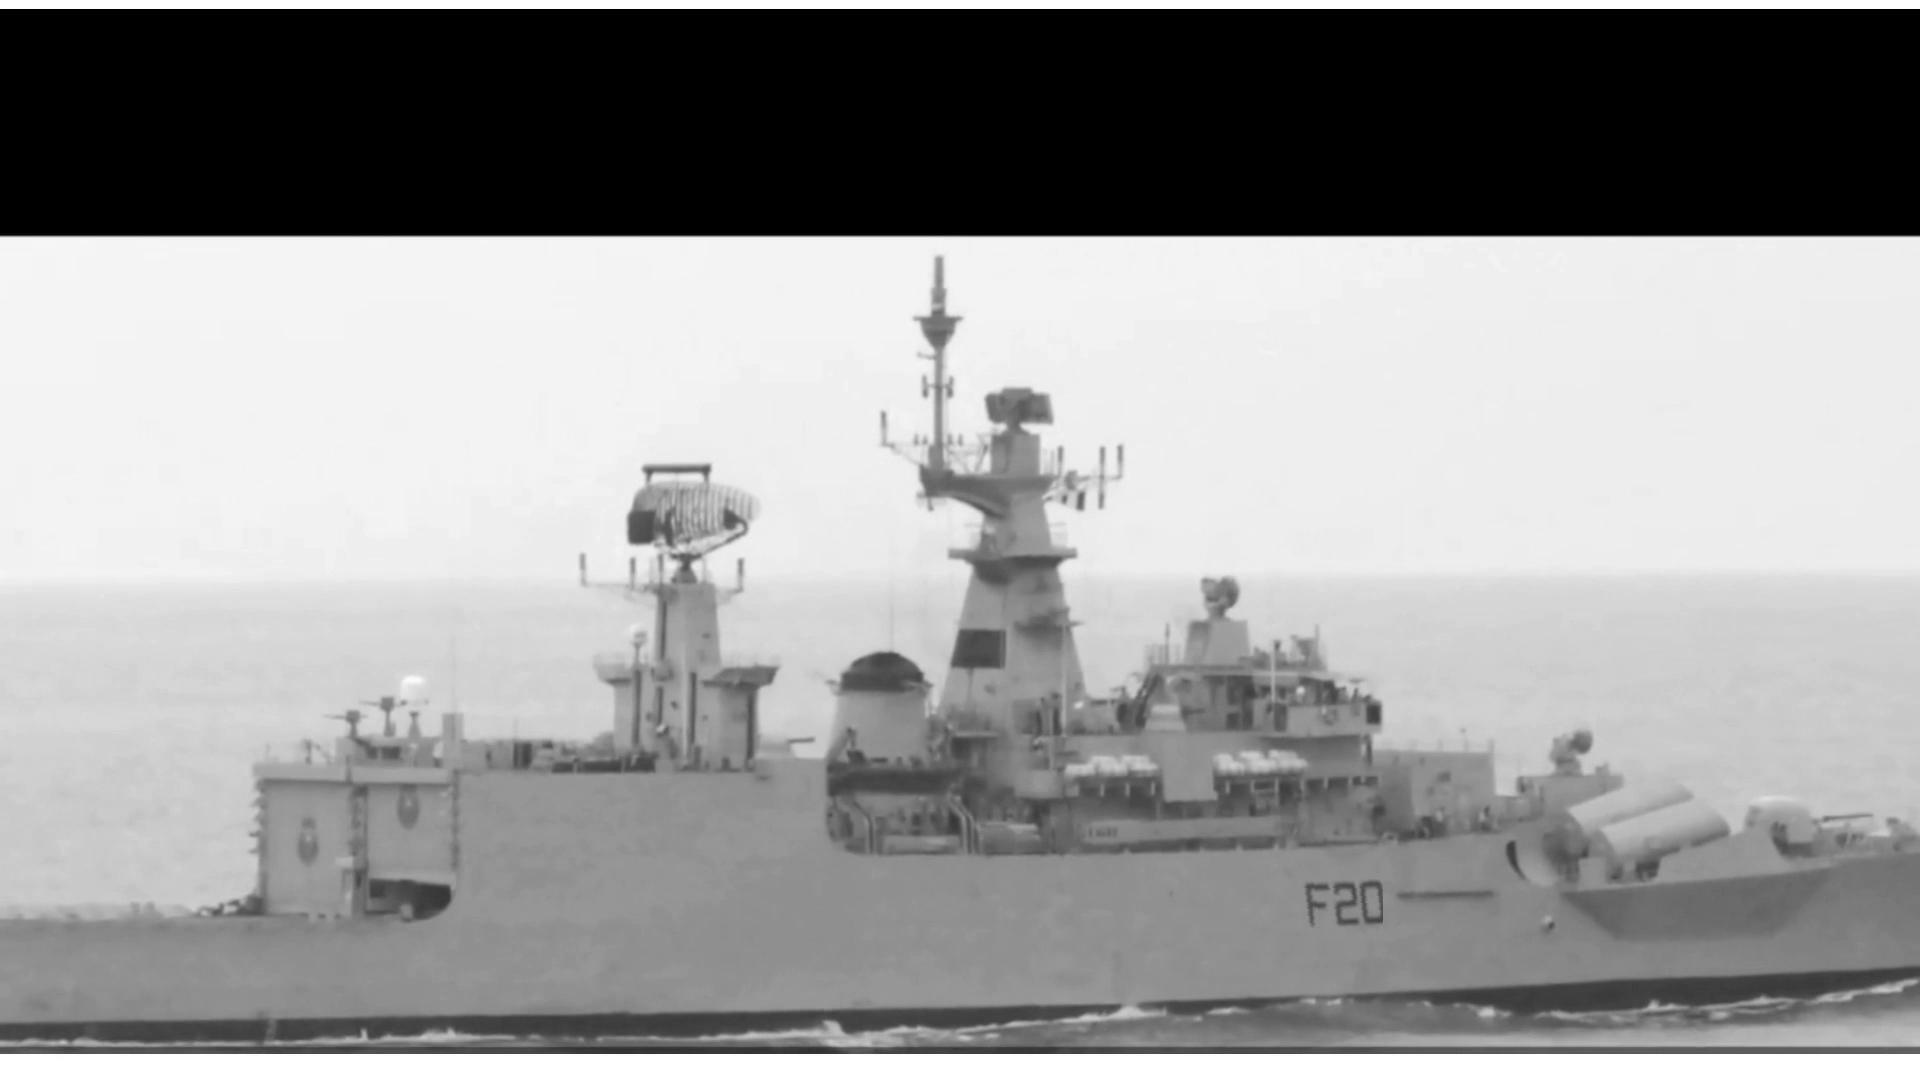OCR: (1278, 869, 1383, 938)
